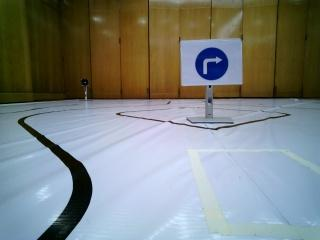right: (180, 41, 242, 85)
